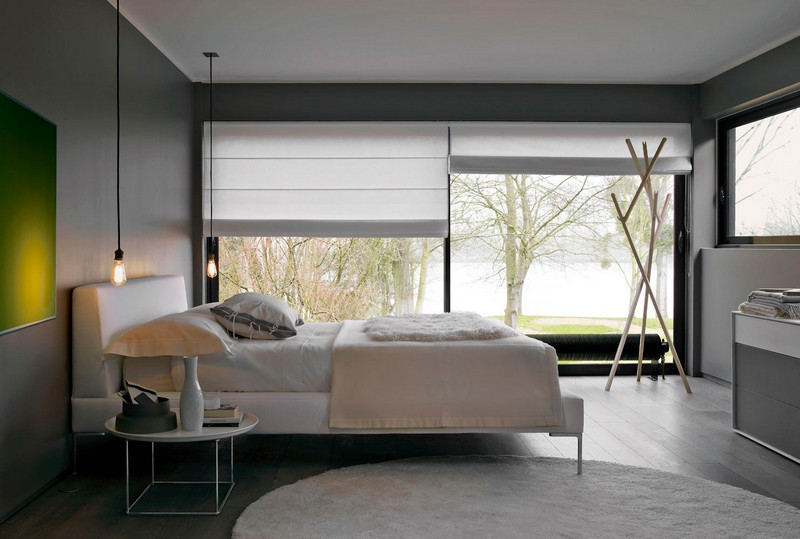bed: (70, 272, 586, 480)
table: (102, 404, 260, 518), (726, 304, 800, 470)
